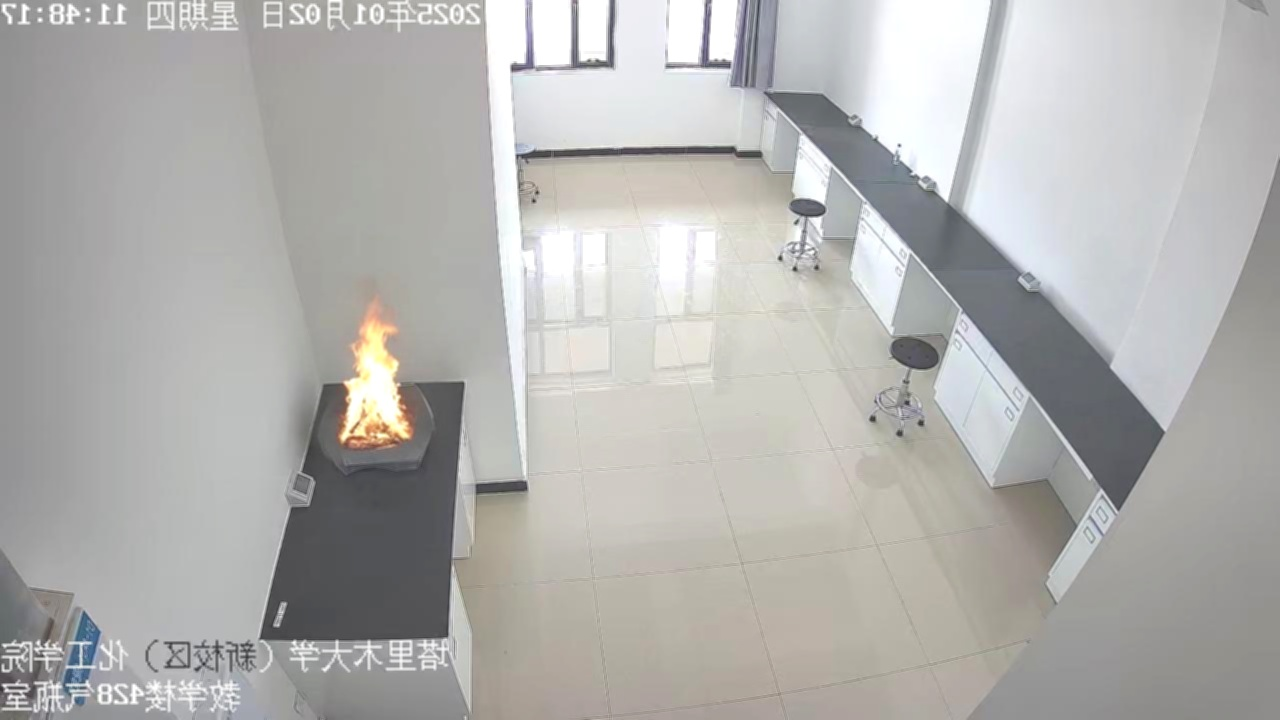fire: (272, 257, 450, 474)
